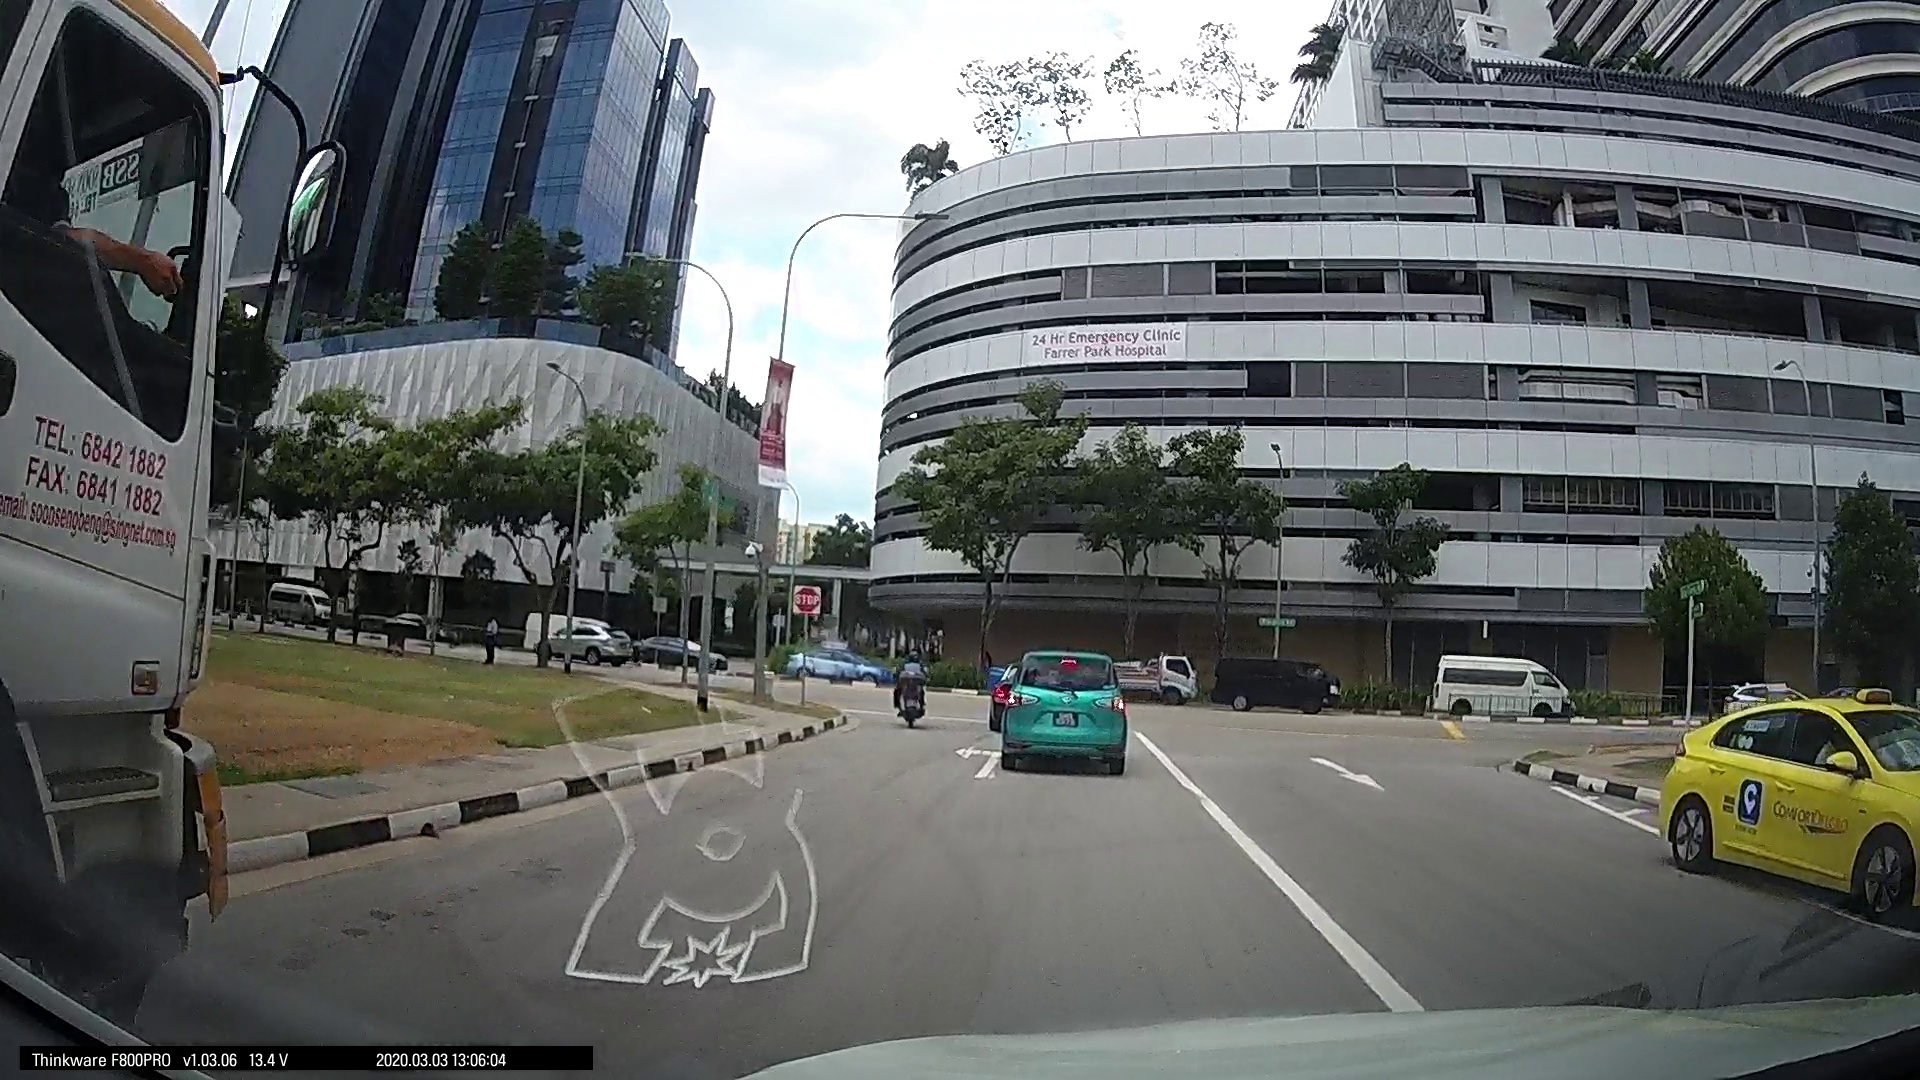Heavy Vehicle: (3, 1, 249, 1011)
Light Vehicle: (1644, 687, 1917, 915), (992, 642, 1127, 771), (1420, 651, 1577, 723), (1211, 649, 1335, 711), (530, 611, 633, 669), (1113, 650, 1196, 702), (782, 640, 876, 683)
Motorcycle: (889, 645, 928, 728)
